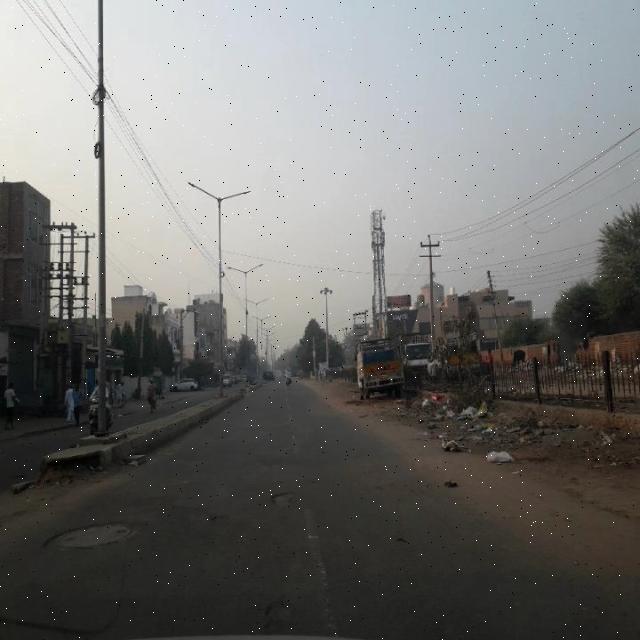D00: (256, 594, 296, 631)
D40: (268, 484, 298, 510)
D44: (305, 508, 347, 630)
D50: (42, 516, 140, 550)
